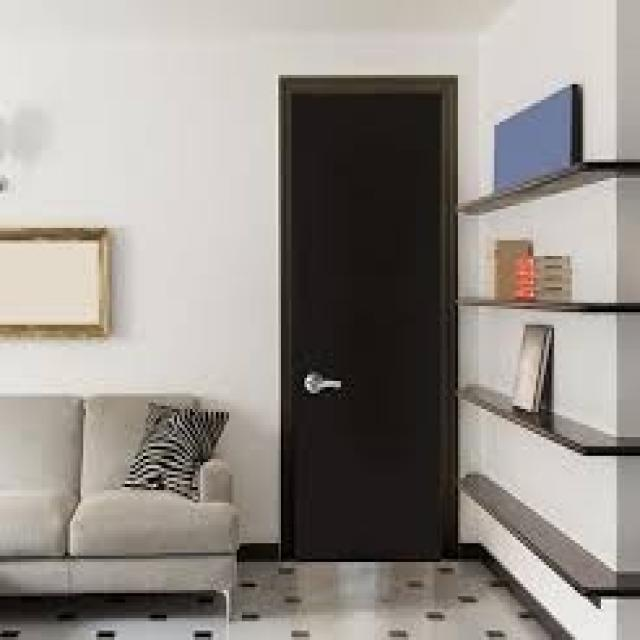door: (279, 75, 456, 562)
